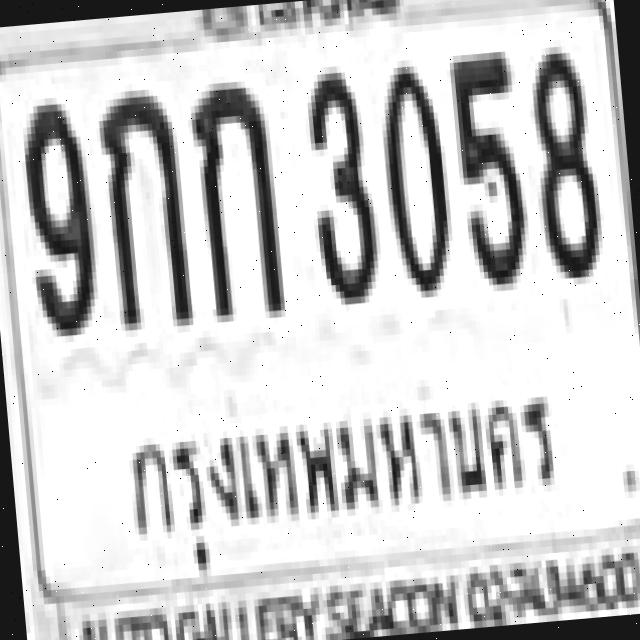0: (372, 58, 452, 294)
10GorGai: (92, 80, 188, 324), (184, 72, 280, 316)
3: (300, 64, 376, 300)
5: (444, 44, 524, 287)
8: (524, 45, 600, 274)
9: (16, 95, 96, 331)
Bangkok: (100, 364, 580, 576)
